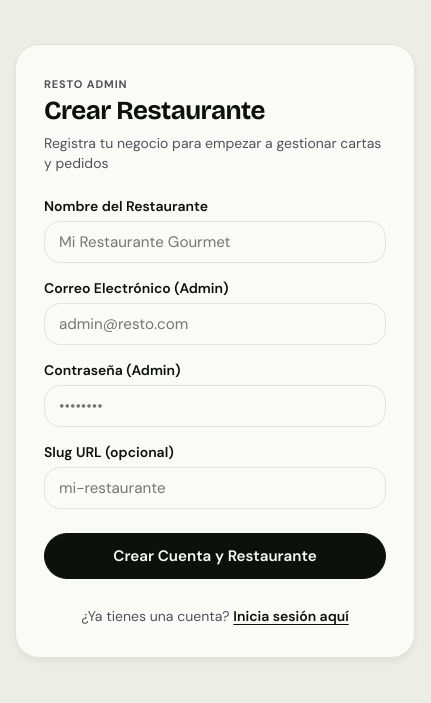
Test: Bloque 2: Auth Admin Real (Tests Rojo) › Register muestra error con role="alert" ante conflicto 409
Type "La Trattoria" into the field labelled "Nombre del Restaurante" at (215, 242), box [44, 221, 386, 263]
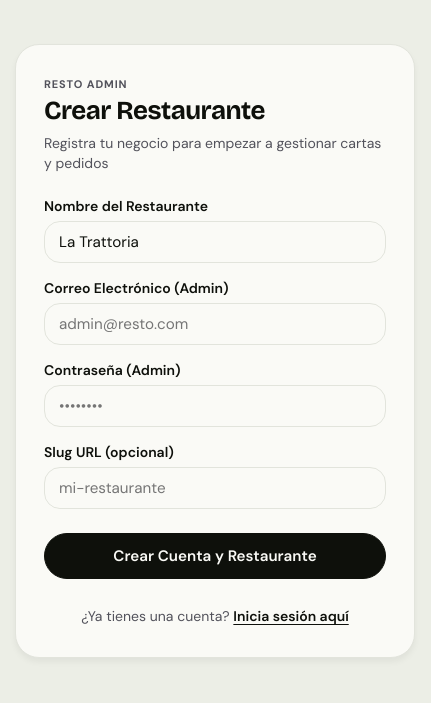
Type "duplicado@trattoria.com" into the field labelled "Correo Electrónico (Admin)" at (215, 324), box [44, 303, 386, 345]
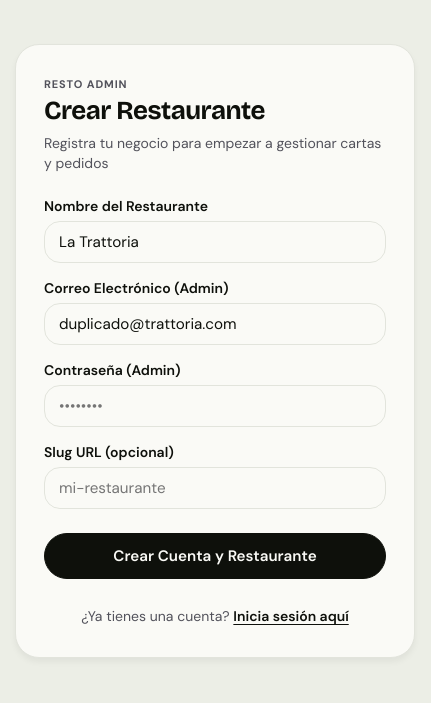
Type "Pass1234" into the password field labelled "Contraseña (Admin)" at (215, 406), box [44, 385, 386, 427]
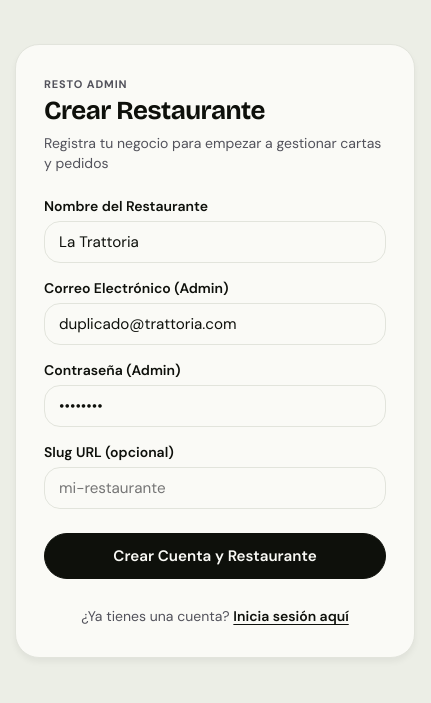
Click the button "Crear Cuenta y Restaurante" at (215, 556), box [44, 533, 386, 579]
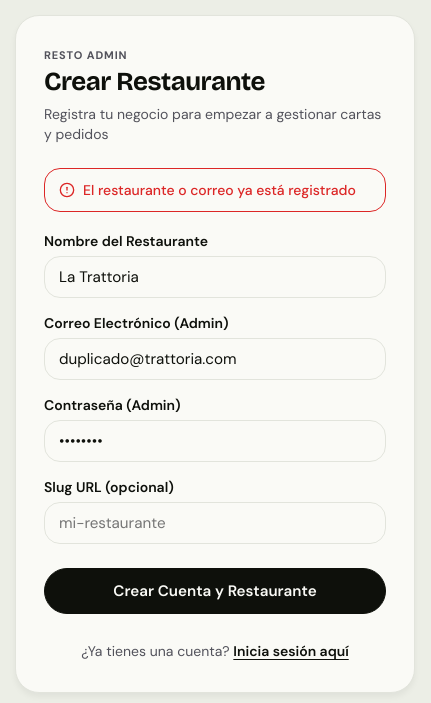
Result: the message reads "El restaurante o correo ya está registrado" at [83, 181, 356, 199]
